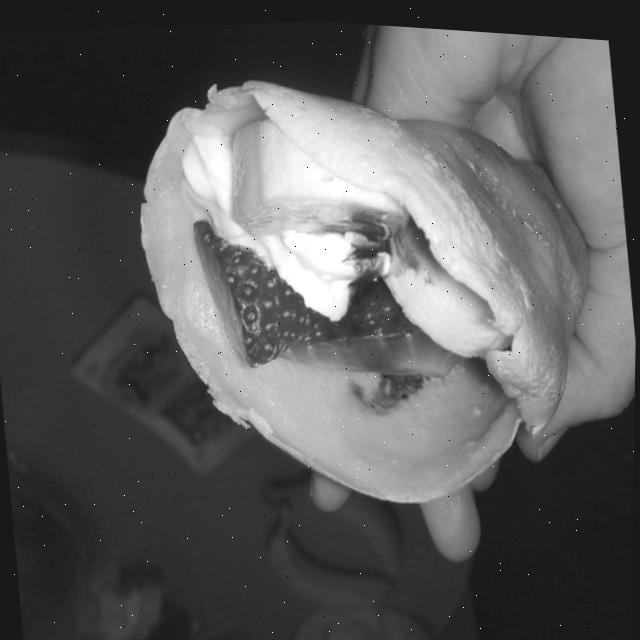蛋糕甜品: (93, 24, 629, 550)
